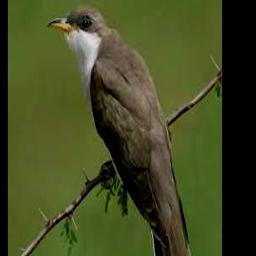Cuckoo: (48, 6, 192, 256)
